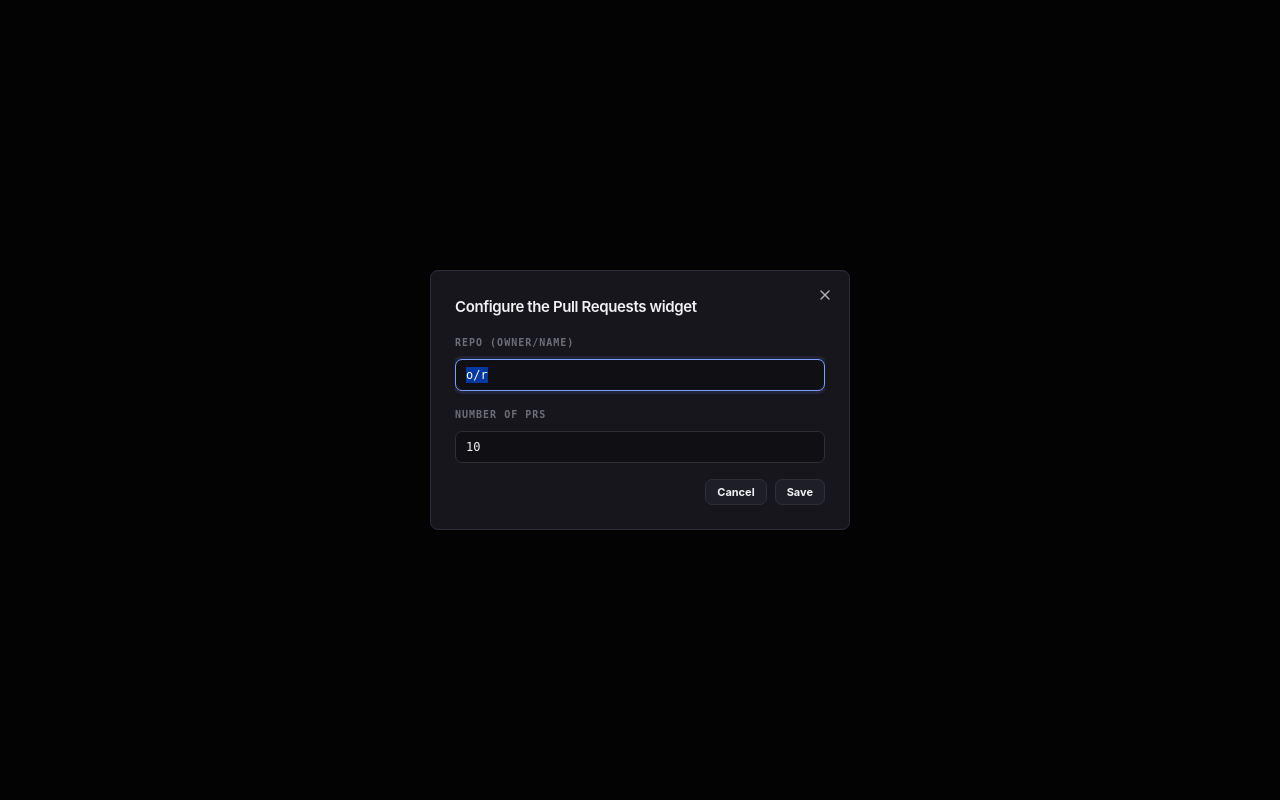
Scenario: PrConfigDialog › invalid repo shows the error and does not save
Replace the text in the field labelled "Repo (owner/name)" with "nope" at (640, 375), box [455, 359, 825, 391]
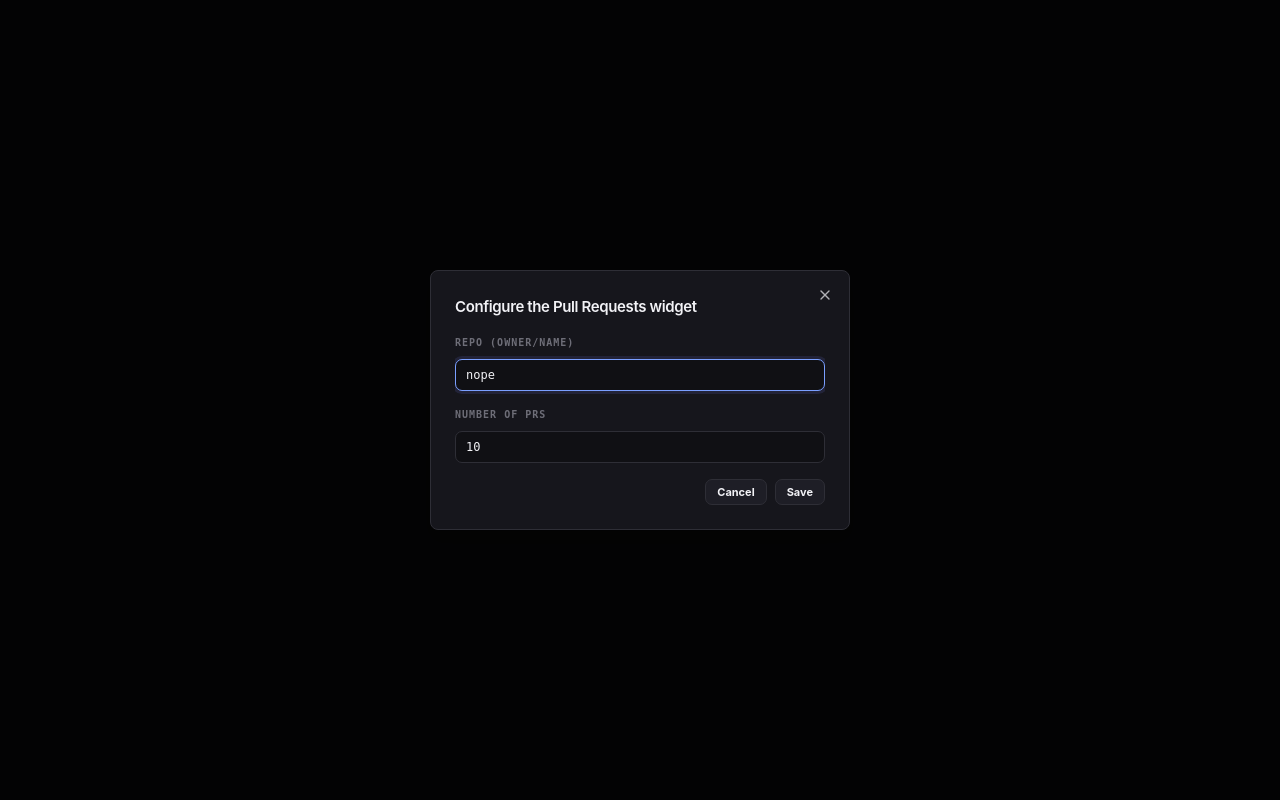
Click the button "Save" at (800, 492), box [775, 479, 825, 505]
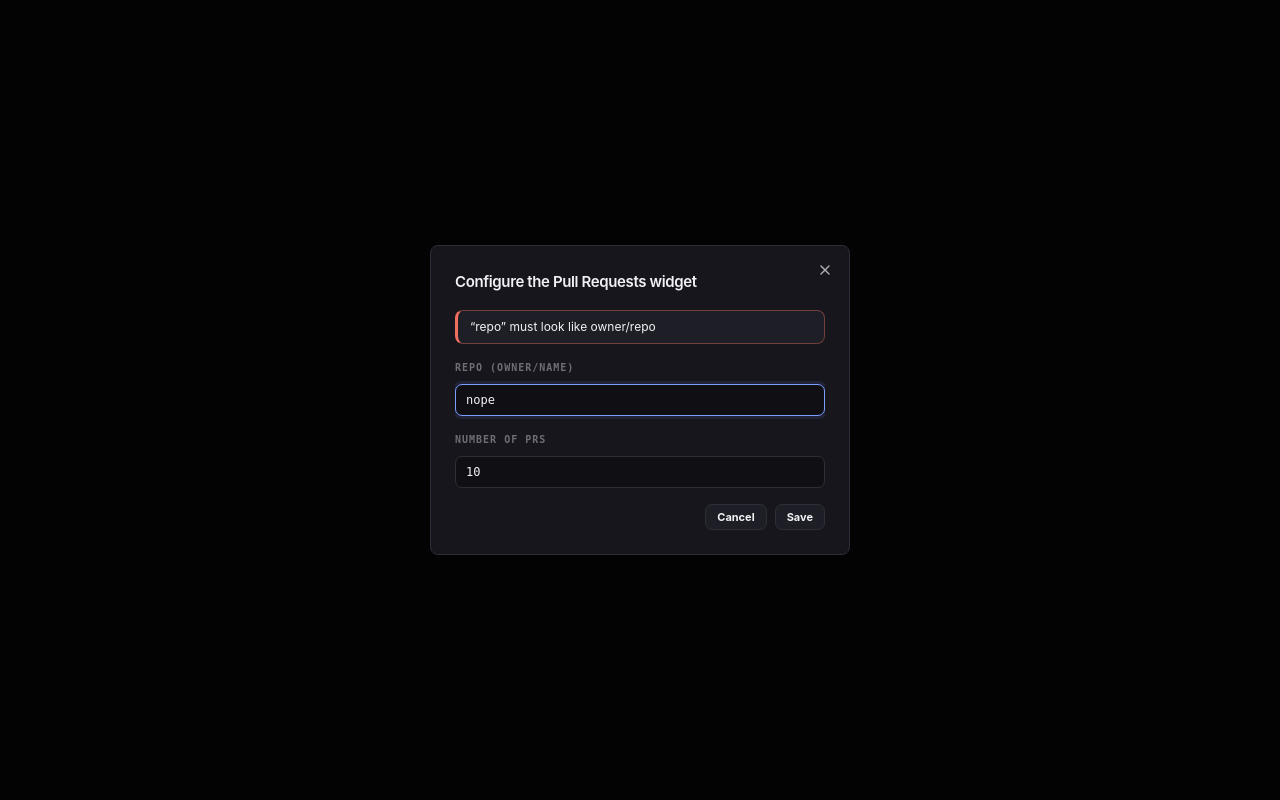
Expected: the text "“repo” must look like owner/repo" is shown, [455, 310, 825, 344]
